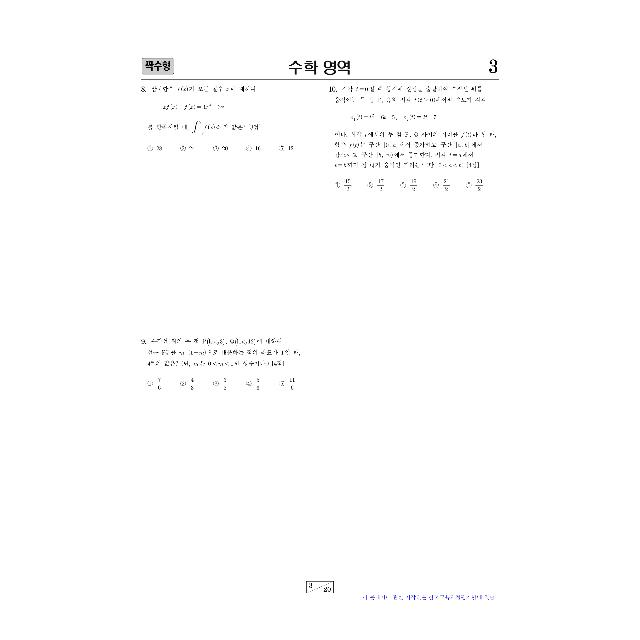multiple: (324, 84, 503, 202), (137, 81, 313, 160), (136, 332, 314, 403)
